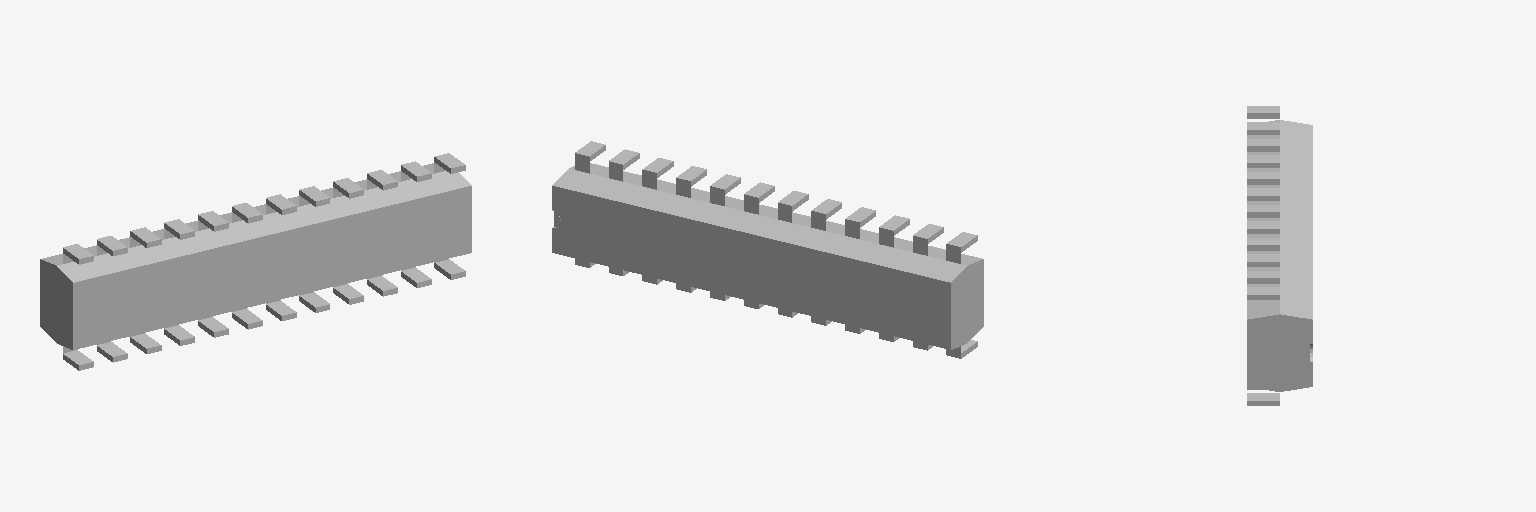
File: DIL-24-3.obj
3 renders of one model, left to right at view 1: azimuth 30°, elevation 25°; view 2: azimuth 150°, elevation 25°; view 3: azimuth 270°, elevation 25°, orthographic.
Parts seen in each view (by area): view 1: ShapeIndexedFaceSet.049_ShapeIndexedFaceSet.050; view 2: ShapeIndexedFaceSet.049_ShapeIndexedFaceSet.050, ShapeIndexedFaceSet_ShapeIndexedFaceSet.001; view 3: ShapeIndexedFaceSet.049_ShapeIndexedFaceSet.050.
Boxes of the visible parts, <box> form: ShapeIndexedFaceSet.049_ShapeIndexedFaceSet.050: <box>40,163,471,349</box>; ShapeIndexedFaceSet.049_ShapeIndexedFaceSet.050: <box>552,163,983,349</box>; ShapeIndexedFaceSet_ShapeIndexedFaceSet.001: <box>568,195,707,284</box>; ShapeIndexedFaceSet.049_ShapeIndexedFaceSet.050: <box>1247,120,1312,391</box>.
Size of the model in its own units: 29.97 by 8.02 by 4.26.